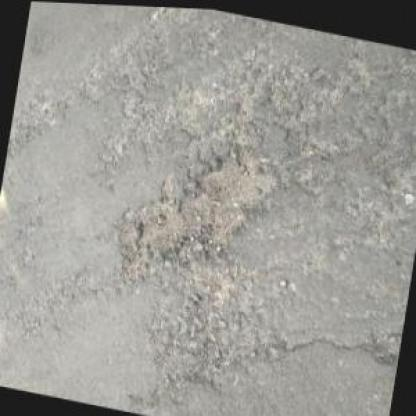pothole: (102, 122, 278, 308)
